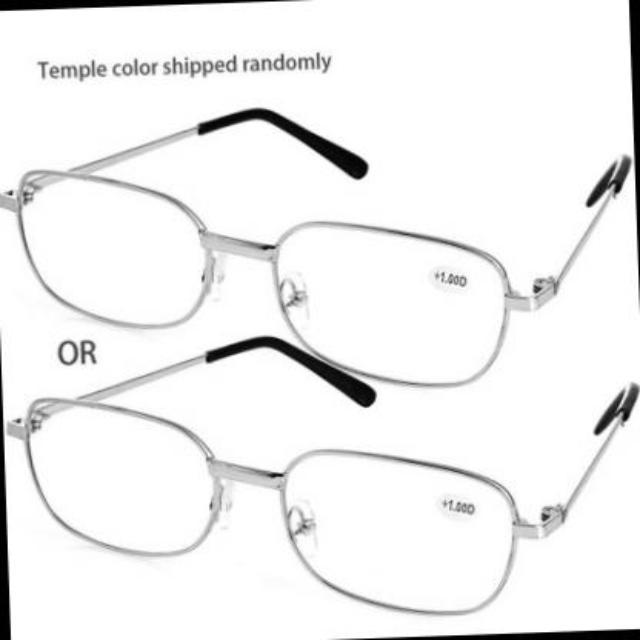glasses: (12, 339, 635, 614), (20, 112, 640, 388)
